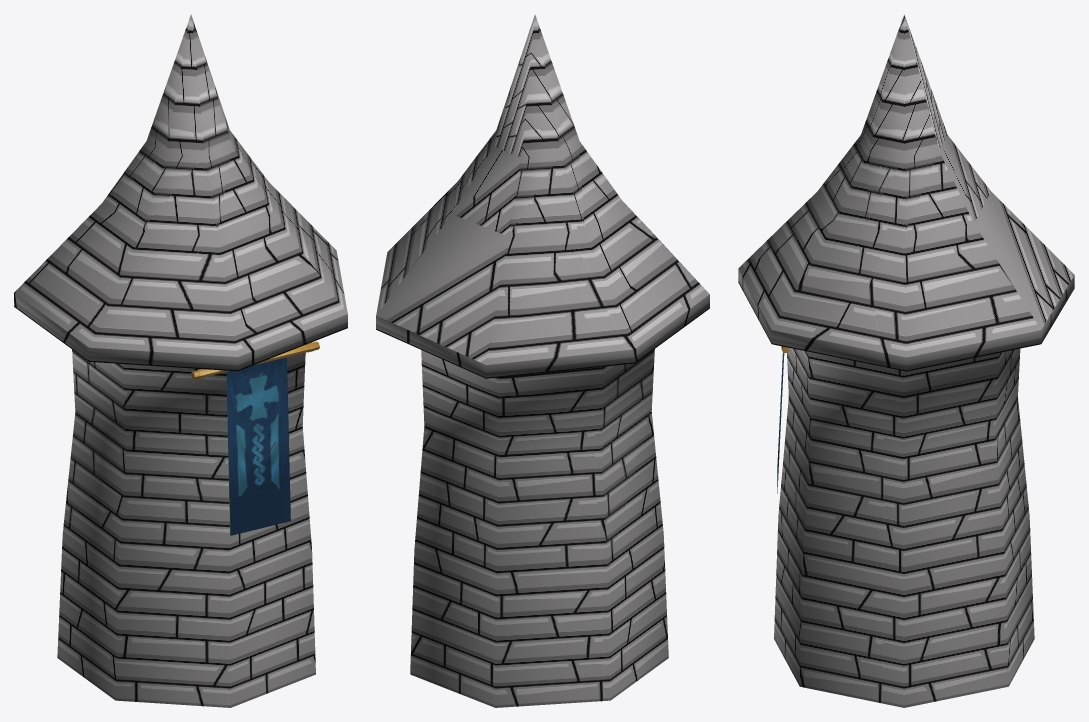
File: WizardTower.FBX
3 views of the same model, side by side, from view 1: azimuth 30°, elevation 25°; view 2: azimuth 150°, elevation 25°; view 3: azimuth 270°, elevation 25° (orthographic).
Visible parts, largest first — view 1: Wizard, Cylinder005; view 2: Wizard; view 3: Wizard.
Boxes of the visible parts, x1,y1,x2,y2 form: Wizard: (14,14,347,707); Cylinder005: (191,341,319,535); Wizard: (376,14,709,707); Wizard: (738,14,1074,707).
Size of the model in its own units: 369 by 792 by 379.
Materials: 2 (2 with a texture image).
